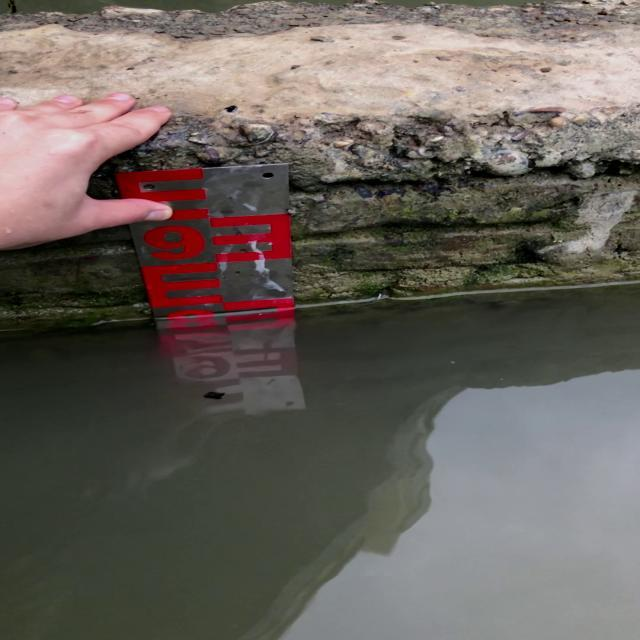ruler: (105, 157, 302, 346)
value: (131, 220, 215, 269)
